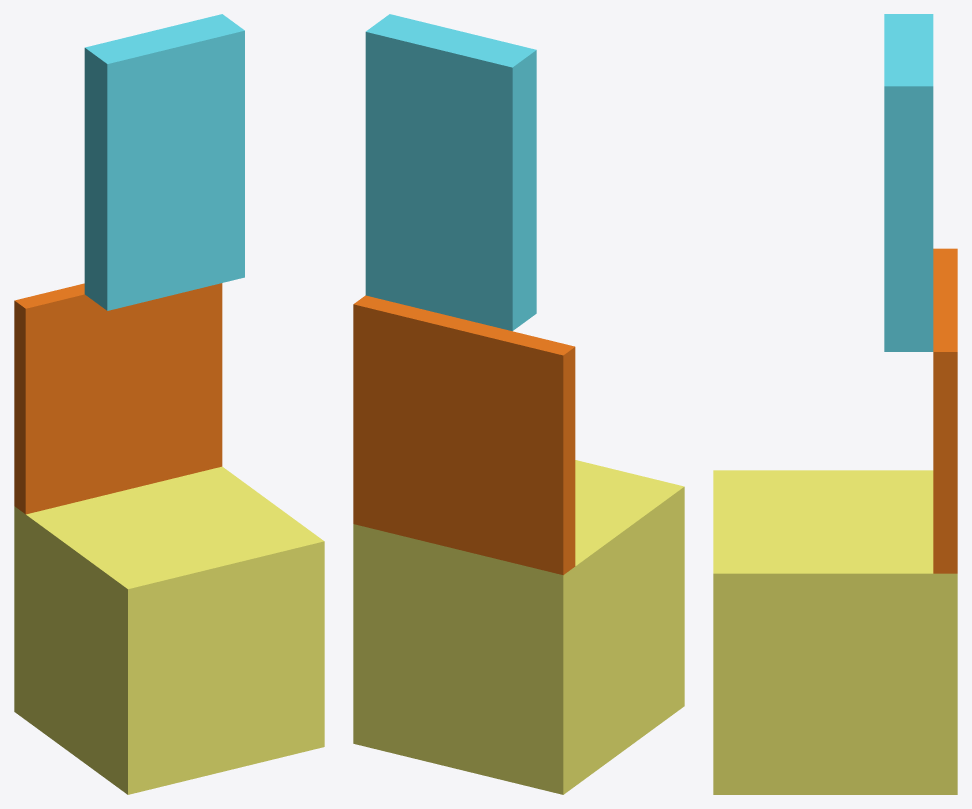
The model's file is demo2.dae.
The picture shows the model from 3 angles, left to right: view 1: azimuth 30°, elevation 25°; view 2: azimuth 150°, elevation 25°; view 3: azimuth 270°, elevation 25°; orthographic projection. The views are drawn at different scales.
Parts seen in each view (by area): view 1: group_0, group_2, group_1; view 2: group_0, group_1, group_2; view 3: group_0, group_2, group_1.
Part boxes in pixels (box(x1,y1,x2,y2)): group_0: box(14, 466, 324, 794); group_2: box(84, 14, 244, 310); group_1: box(14, 283, 222, 514); group_0: box(353, 460, 684, 794); group_1: box(353, 295, 575, 575); group_2: box(365, 14, 536, 331); group_0: box(713, 470, 957, 794); group_2: box(884, 14, 933, 351); group_1: box(933, 248, 957, 573).
Bounding box in the file's own units: 10 × 10 × 32.
